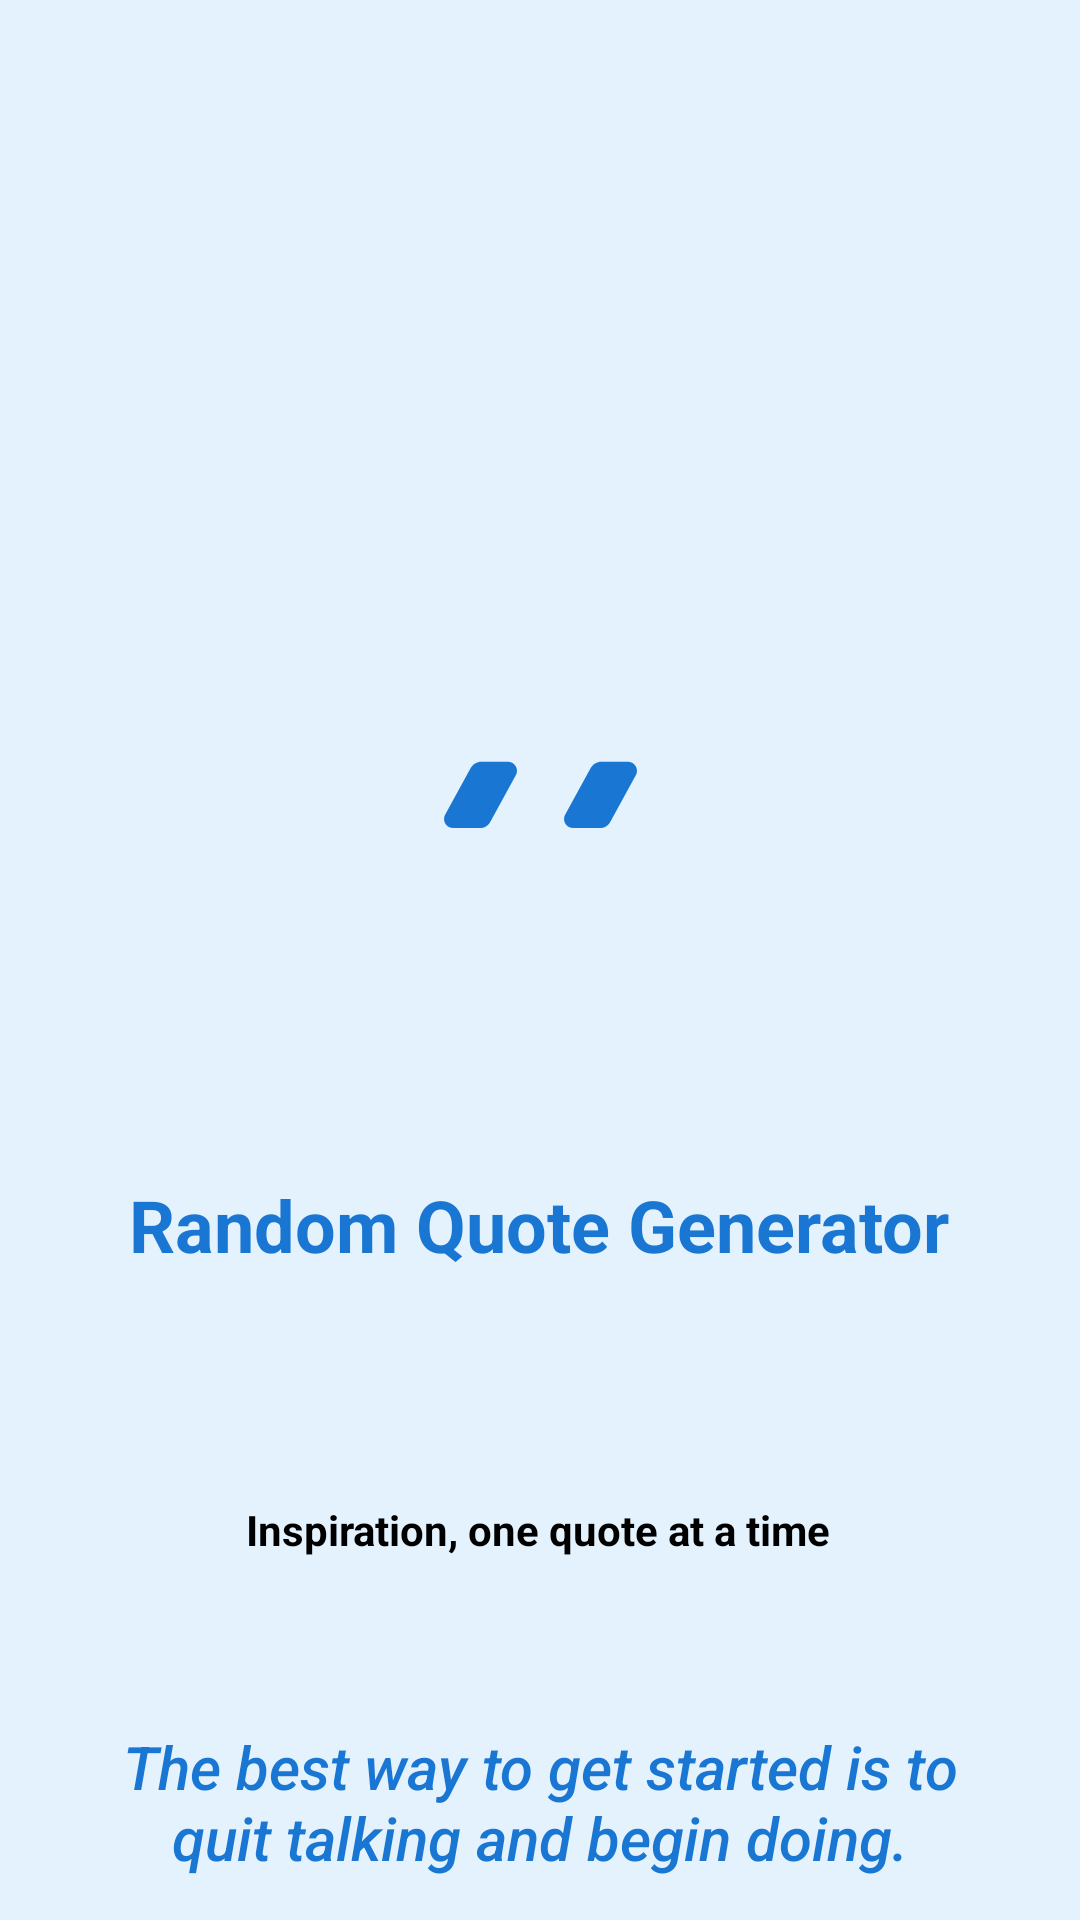

Icons on this 1080px×1920px Android screen, each with its box as (x1=x1, y1=y1, x2=x2, y2=y2):
quote: (x1=444, y1=761, x2=637, y2=828)
